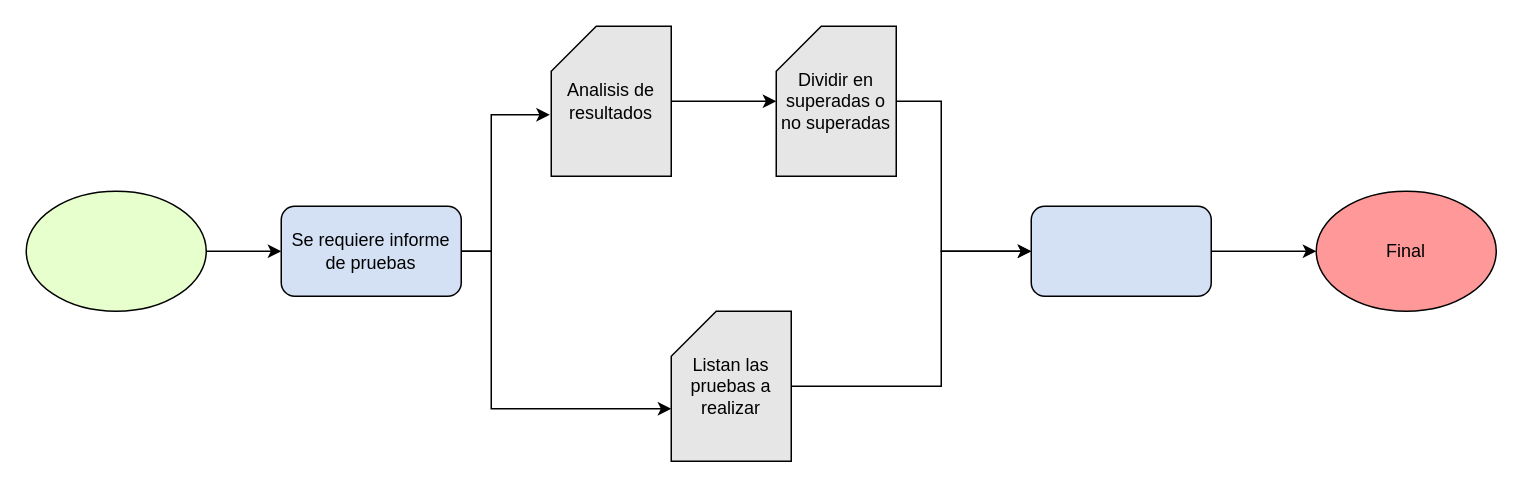
This 1523x488 diagram has some shape labels left out. Each missing label, with the centre of its shape:
Inicio: pixel 115 250
Se notifica a los al jefe de del equipo: pixel 1120 250
